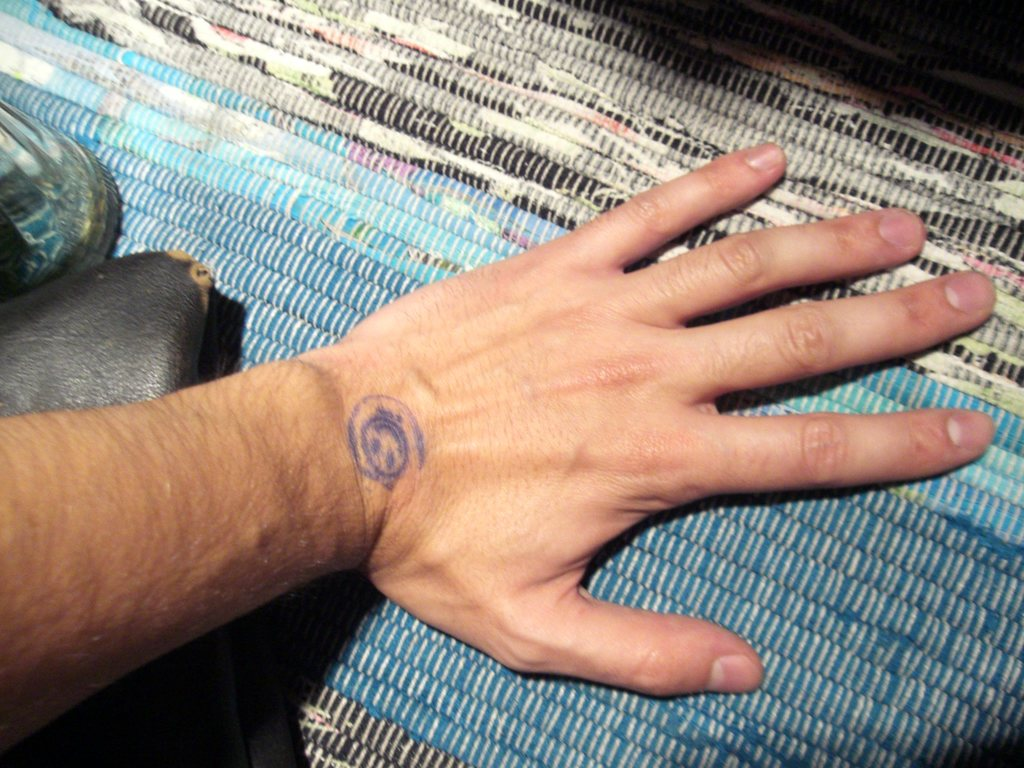Human_hand: (361, 142, 995, 700)
